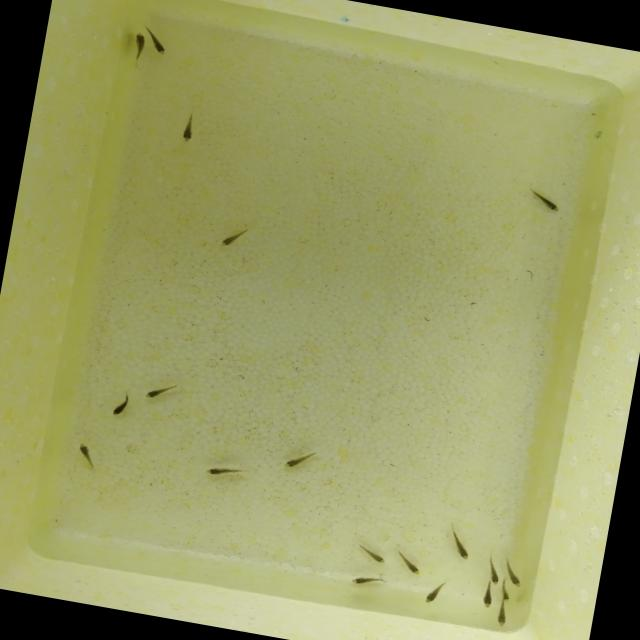fingerling: (520, 181, 568, 217), (442, 520, 476, 562), (282, 444, 321, 474), (142, 376, 182, 404), (392, 546, 426, 576), (421, 574, 450, 609), (176, 106, 201, 146), (352, 540, 389, 566), (108, 386, 136, 420), (348, 570, 391, 592), (204, 461, 248, 482), (220, 222, 252, 250), (74, 440, 100, 470), (128, 30, 147, 70), (146, 28, 170, 56), (504, 562, 526, 588), (494, 602, 512, 628), (478, 585, 496, 609), (486, 562, 502, 586), (499, 586, 513, 602)
